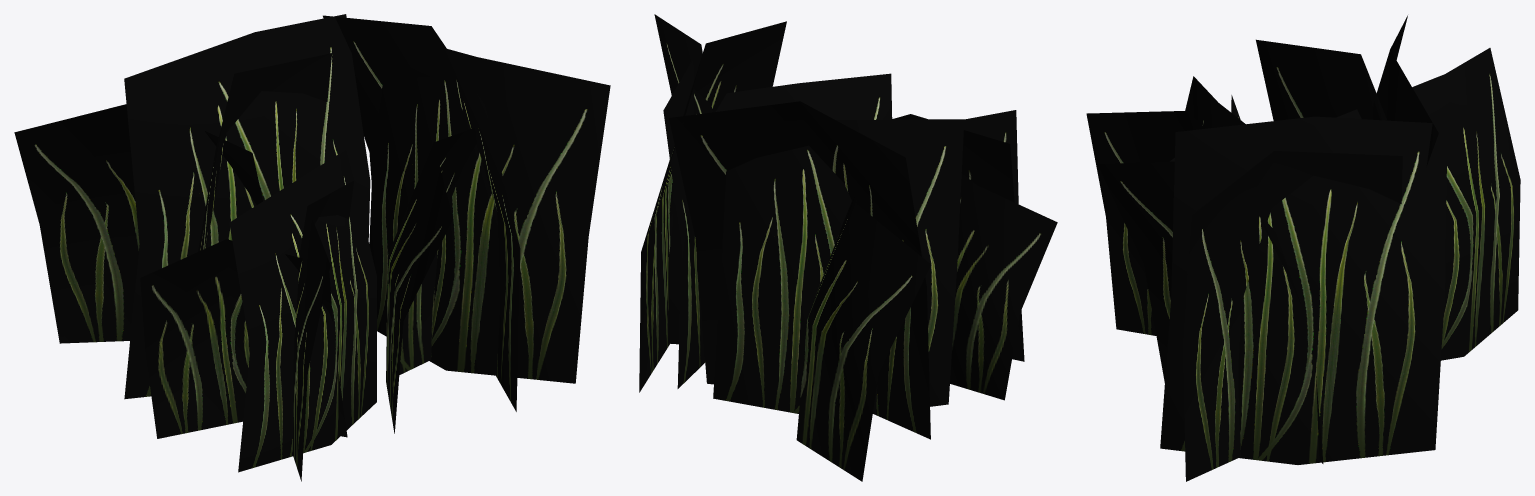
The model's file is GrassMid.fbx.
3 views of the same model, side by side, from view 1: azimuth 30°, elevation 25°; view 2: azimuth 150°, elevation 25°; view 3: azimuth 270°, elevation 25° (orthographic). The views are drawn at different scales.
Parts seen in each view (by area): view 1: GrassMid_LOD0; view 2: GrassMid_LOD0; view 3: GrassMid_LOD0.
Part boxes in pixels (x1,y1,x2,y2): GrassMid_LOD0: (14,14,610,481); GrassMid_LOD0: (639,14,1057,481); GrassMid_LOD0: (1086,15,1520,481).
Size of the model in its own units: 93.67 by 65.82 by 78.82.
